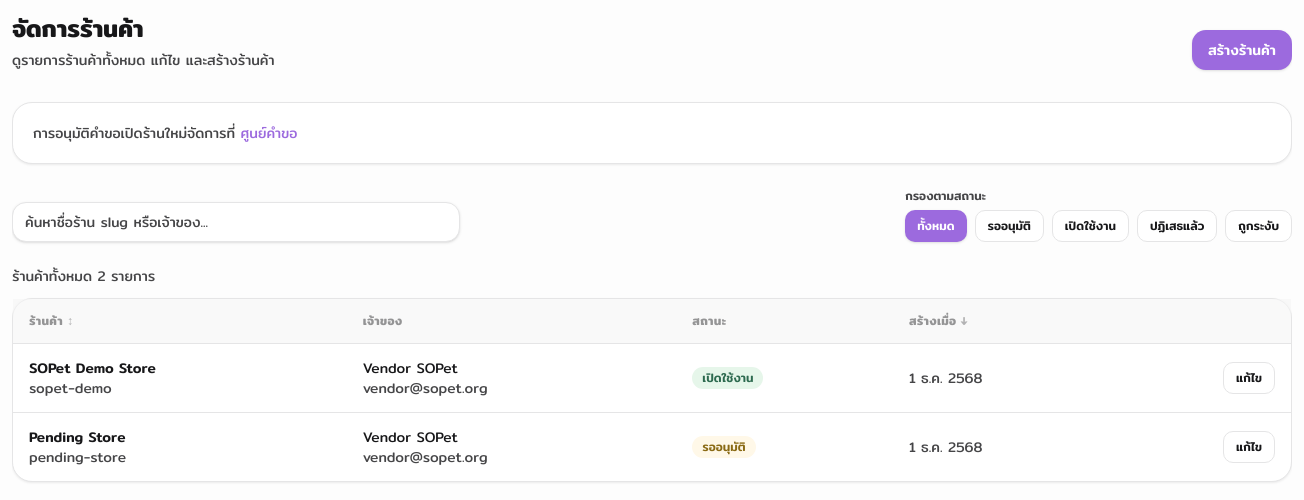
Scenario: AdminStoresPage › requests the status filter from the server and writes it to the URL
Expected: the text "ร้านค้าทั้งหมด 2 รายการ" is shown, [12,265,155,287]
Click the button "รออนุมัติ" at x=1009, y=226, box [974,210,1044,242]
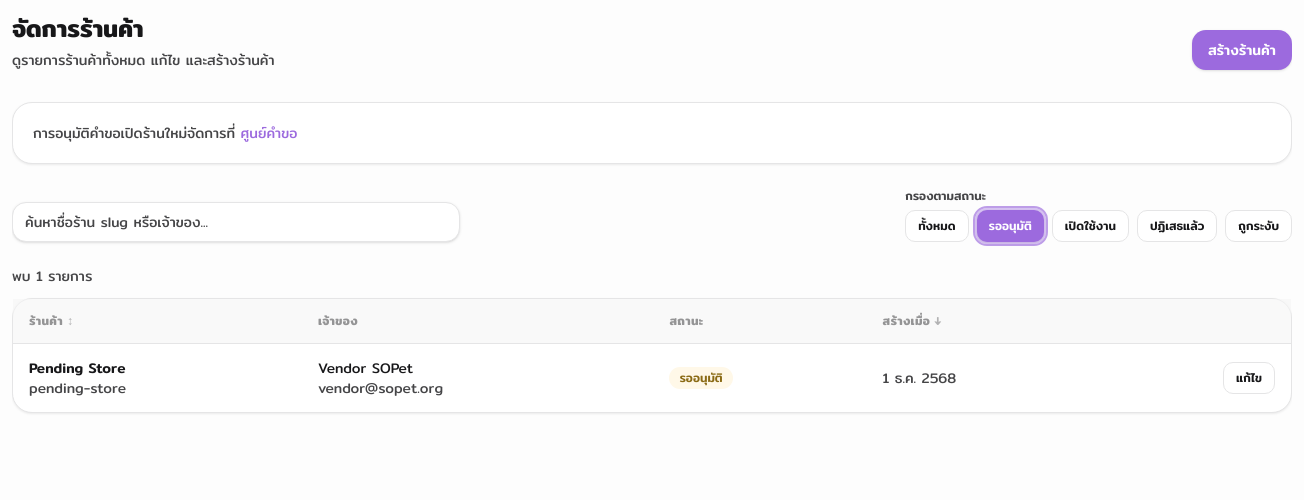
Expected: the text "พบ 1 รายการ" is shown, [12,265,92,287]
Expected: the text "SOPet Demo Store" is gone
